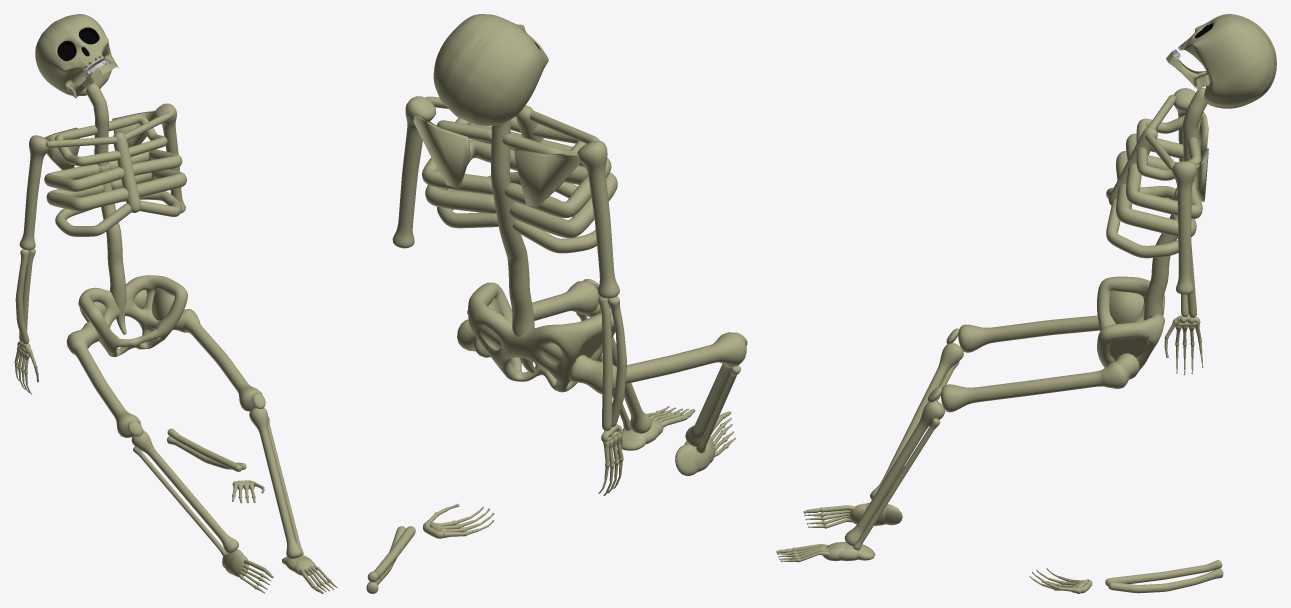
Rendered from Skeleton chess puzzle without chair.glb.
3 views of the same model, side by side, from view 1: azimuth 30°, elevation 25°; view 2: azimuth 150°, elevation 25°; view 3: azimuth 270°, elevation 25° (orthographic). The views are drawn at different scales.
Visible parts, largest first — view 1: Dup ruggengraad.002, Dup skull.002, Dup fibula&tibia.r.001, Dup fibula&tibia.l.002, Dup femur.r.001, Dup femur.l.002, Dup humerus.r.002, Dup Ulna&radius.r.002, Dup Ulna&radius.l.002, Dup foot.r, Dup foot.l.001, Dup Humerus.l.002 (+2 smaller); view 2: Dup ruggengraad.002, Dup skull.002, Dup femur.r.001, Dup humerus.r.002, Dup Humerus.l.002, Dup Ulna&radius.r.002, Dup femur.l.002, Dup fibula&tibia.r.001, Dup foot.r, Dup foot.l.001, Dup fibula&tibia.l.002, Dup hand.l.002 (+2 smaller); view 3: Dup ruggengraad.002, Dup skull.002, Dup femur.l.002, Dup fibula&tibia.l.002, Dup femur.r.001, Dup Humerus.l.002, Dup Ulna&radius.l.002, Dup fibula&tibia.r.001, Dup foot.r, Dup foot.l.001, Dup hand.r.002, Dup hand.l.002.
Boxes of the visible parts, <box> form: Dup ruggengraad.002: <box>44,83,187,357</box>; Dup skull.002: <box>35,14,118,98</box>; Dup fibula&tibia.r.001: <box>131,430,238,556</box>; Dup fibula&tibia.l.002: <box>249,408,303,558</box>; Dup femur.r.001: <box>66,322,140,437</box>; Dup femur.l.002: <box>173,309,262,411</box>; Dup humerus.r.002: <box>19,135,50,250</box>; Dup Ulna&radius.r.002: <box>15,248,35,344</box>; Dup Ulna&radius.l.002: <box>167,428,246,471</box>; Dup foot.r: <box>222,549,273,593</box>; Dup foot.l.001: <box>282,555,337,593</box>; Dup Humerus.l.002: <box>154,103,185,213</box>; Dup ruggengraad.002: <box>413,96,617,392</box>; Dup skull.002: <box>433,14,548,125</box>; Dup femur.r.001: <box>569,332,746,393</box>; Dup humerus.r.002: <box>577,140,619,298</box>; Dup Humerus.l.002: <box>392,96,435,248</box>; Dup Ulna&radius.r.002: <box>598,296,626,430</box>; Dup femur.l.002: <box>457,280,599,357</box>; Dup fibula&tibia.r.001: <box>685,364,740,453</box>; Dup foot.r: <box>675,411,735,475</box>; Dup foot.l.001: <box>621,406,695,450</box>; Dup fibula&tibia.l.002: <box>576,303,651,433</box>; Dup hand.l.002: <box>423,503,494,538</box>; Dup ruggengraad.002: <box>1097,88,1208,379</box>; Dup skull.002: <box>1166,14,1276,108</box>; Dup femur.l.002: <box>941,353,1139,412</box>; Dup fibula&tibia.l.002: <box>844,400,945,550</box>; Dup femur.r.001: <box>958,315,1099,352</box>; Dup Humerus.l.002: <box>1172,161,1197,294</box>; Dup Ulna&radius.l.002: <box>1105,560,1223,593</box>; Dup fibula&tibia.r.001: <box>870,342,963,499</box>; Dup foot.r: <box>803,502,902,528</box>; Dup foot.l.001: <box>776,541,875,562</box>; Dup hand.r.002: <box>1164,315,1203,375</box>; Dup hand.l.002: <box>1029,568,1092,593</box>.
Size of the model in its own units: 2.1 by 4.55 by 4.
1 material, 1 textured.
